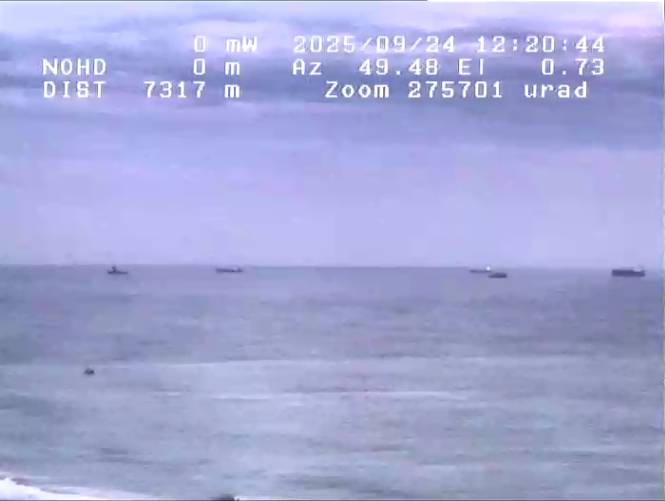TANKER: (604, 258, 652, 286), (463, 264, 495, 275)
